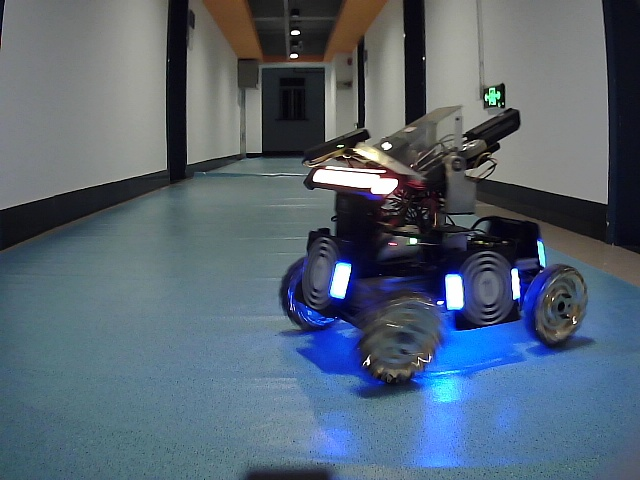lamp: (328, 259, 349, 303), (446, 273, 464, 309), (533, 238, 550, 272), (509, 267, 522, 300)
pair: (446, 273, 521, 300)
